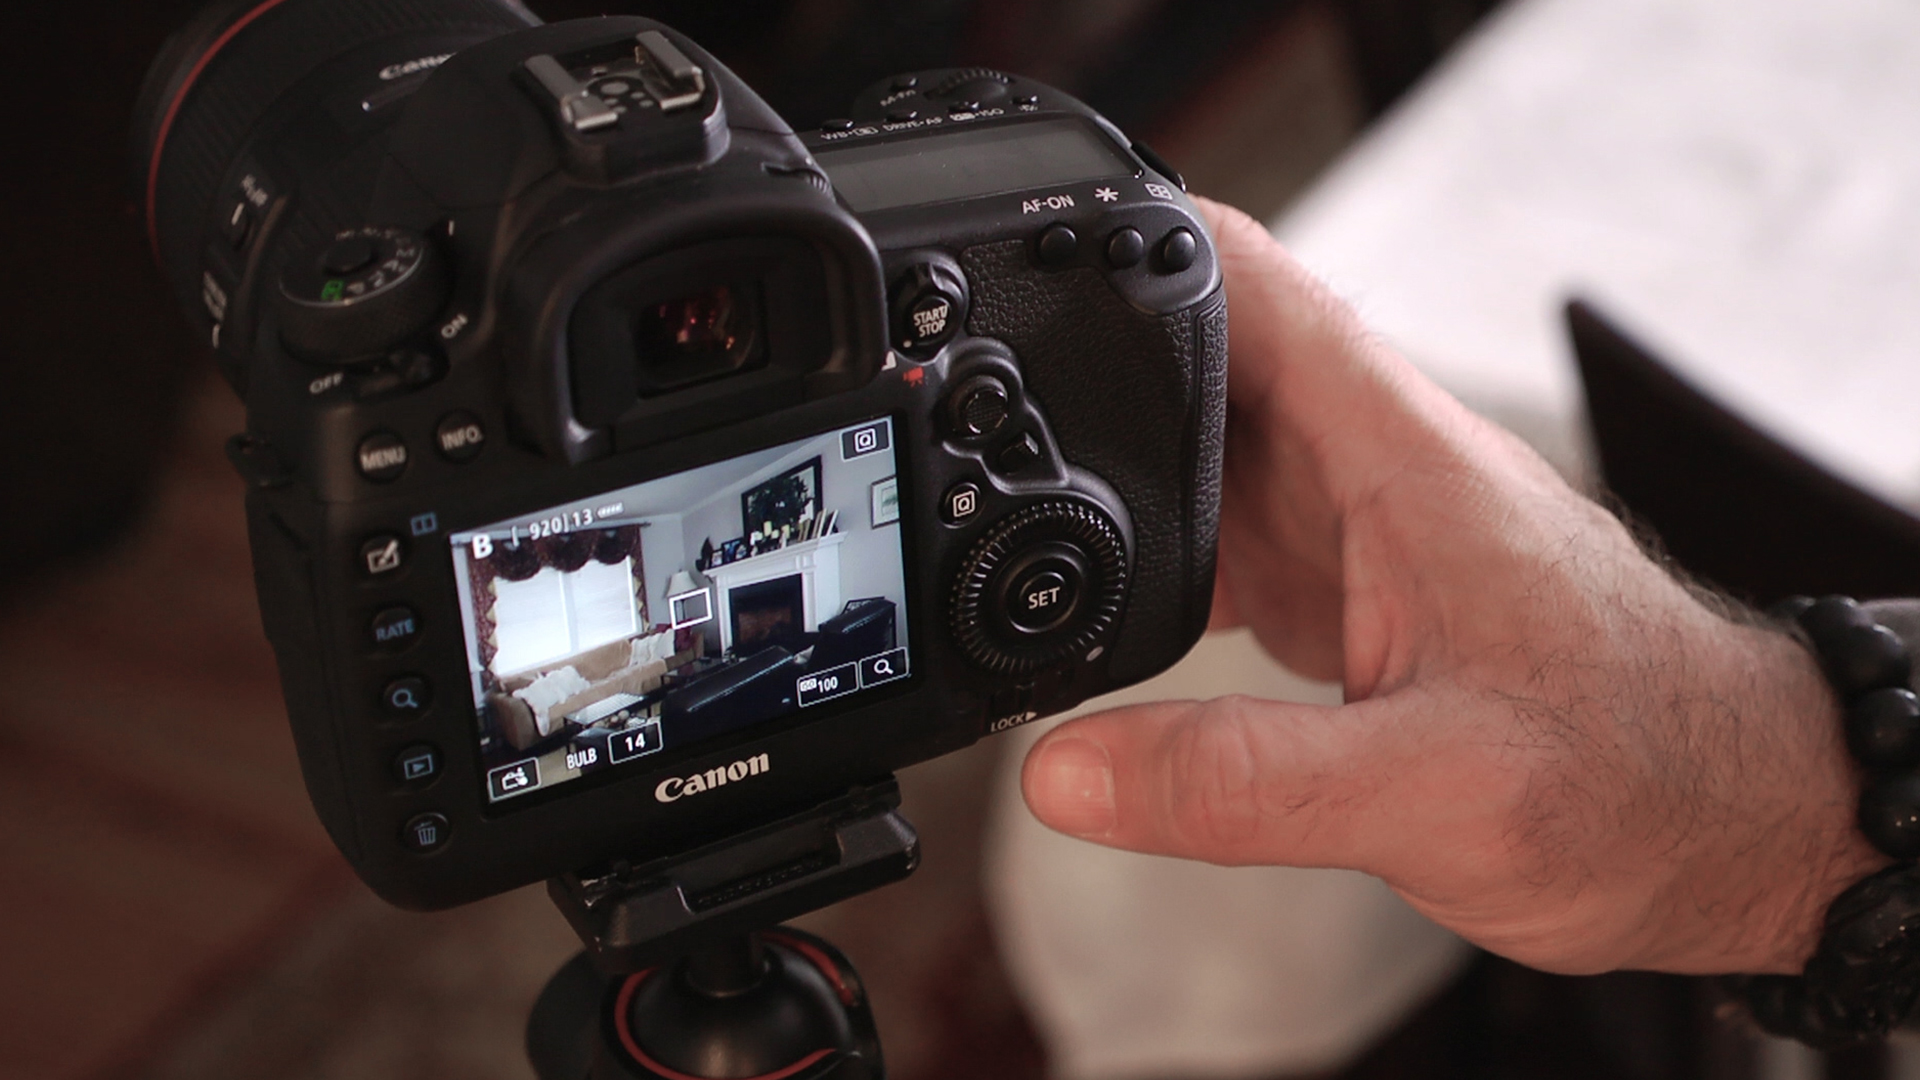camera: (179, 45, 1225, 895)
